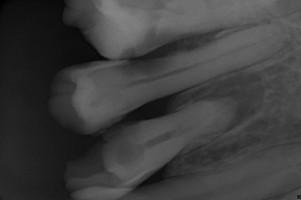Furcation Involvement: (196, 72, 264, 136)
